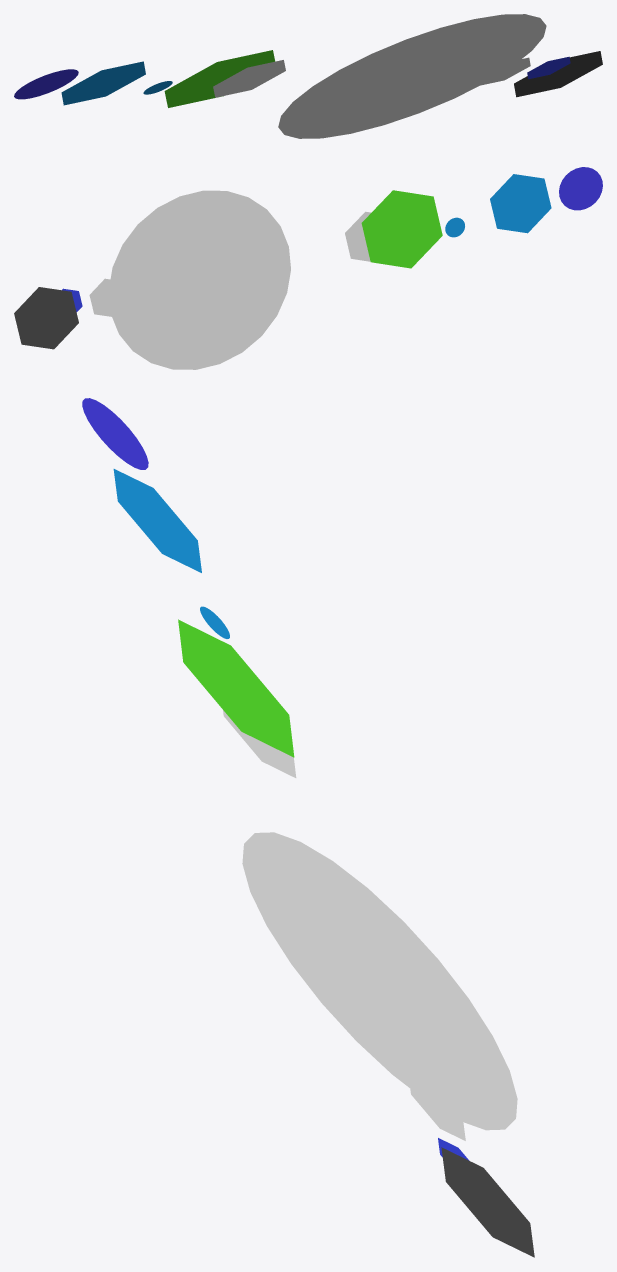
Rendered from pref_fx_Bulbasaur_spellG_atk_000303_lv1.fbx.
3 views of the same model, one above another, from view 1: azimuth 30°, elevation 25°; view 2: azimuth 150°, elevation 25°; view 3: azimuth 270°, elevation 25° (orthographic). The views are drawn at different scales.
Parts seen in each view (by area): view 1: sm_guangban; view 2: sm_guangban; view 3: sm_guangban.
Part boxes in pixels (left/top/right/bottom): sm_guangban: left=14, top=14, right=602, bottom=138; sm_guangban: left=14, top=167, right=602, bottom=369; sm_guangban: left=82, top=398, right=534, bottom=1257.
Size of the model in its own units: 14.49 by 5.76 by 5.76.
